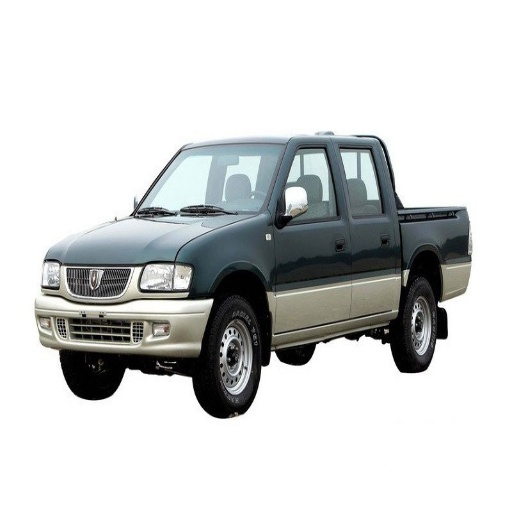front_bumper: (33, 261, 212, 354)
front_glass: (132, 147, 285, 216)
front_left_door: (275, 143, 352, 331)
trunk: (383, 208, 469, 307)
